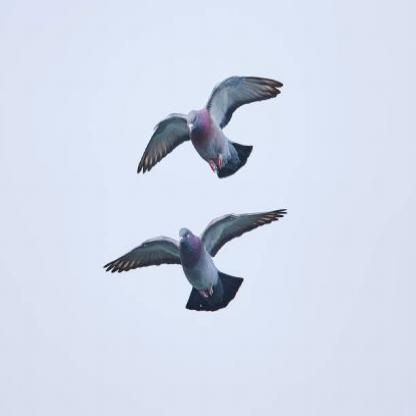Flying Rat: (99, 209, 291, 315), (137, 74, 281, 179)
